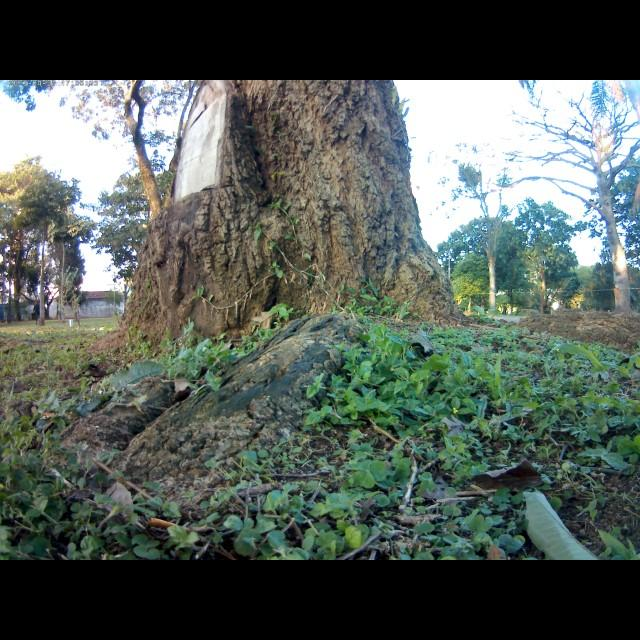arvore: (77, 81, 469, 527)
